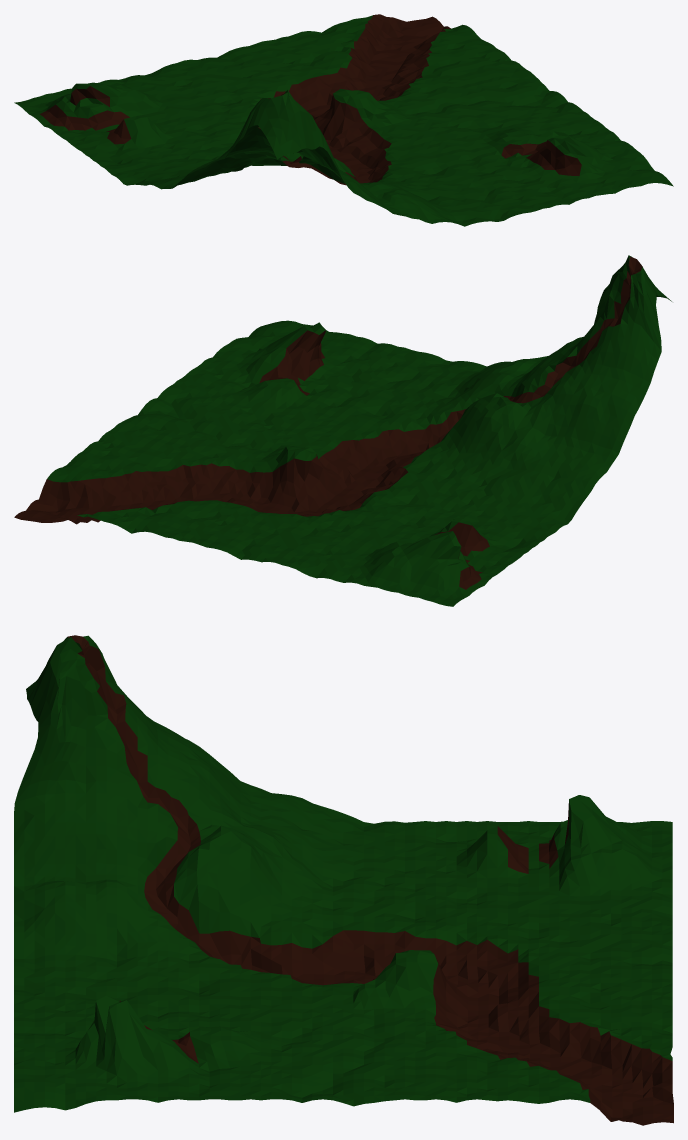
The model's file is jungle_hills.obj.
3 views of the same model, one above another, from view 1: azimuth 30°, elevation 25°; view 2: azimuth 150°, elevation 25°; view 3: azimuth 270°, elevation 25° (orthographic). The views are drawn at different scales.
Size of the model in its own units: 373 by 156 by 373.
